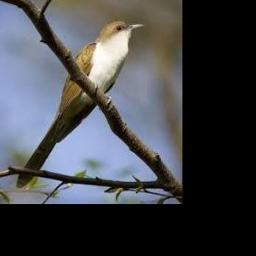Cuckoo: (15, 21, 145, 187)
